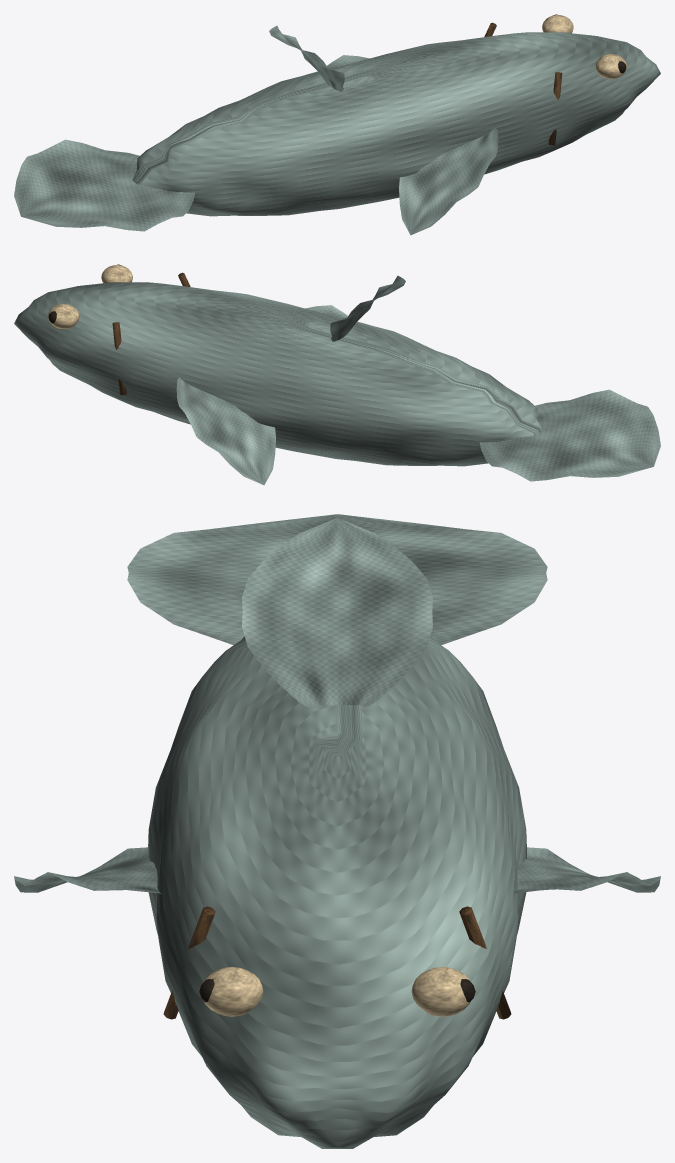
Rendered from fish_whole.glb.
3 renders of one model, top to bottom at view 1: azimuth 30°, elevation 25°; view 2: azimuth 150°, elevation 25°; view 3: azimuth 270°, elevation 25°, orthographic. The views are drawn at different scales.
Visible parts, largest first — view 1: fish, bone, dry_dark; view 2: fish, bone, dry_dark; view 3: fish, bone, dry_dark.
Part boxes in pixels (x1=…): fish: x1=14, y1=25, x2=660, y2=235; bone: x1=542, y1=15, x2=626, y2=79; dry_dark: x1=484, y1=22, x2=562, y2=145; fish: x1=14, y1=275, x2=660, y2=485; bone: x1=48, y1=265, x2=132, y2=329; dry_dark: x1=112, y1=272, x2=190, y2=395; fish: x1=14, y1=514, x2=660, y2=1148; bone: x1=204, y1=967, x2=470, y2=1016; dry_dark: x1=163, y1=906, x2=511, y2=1019.
Size of the model in its own units: 0.3659 by 0.0995 by 0.1662.
4 materials, 4 textured.
